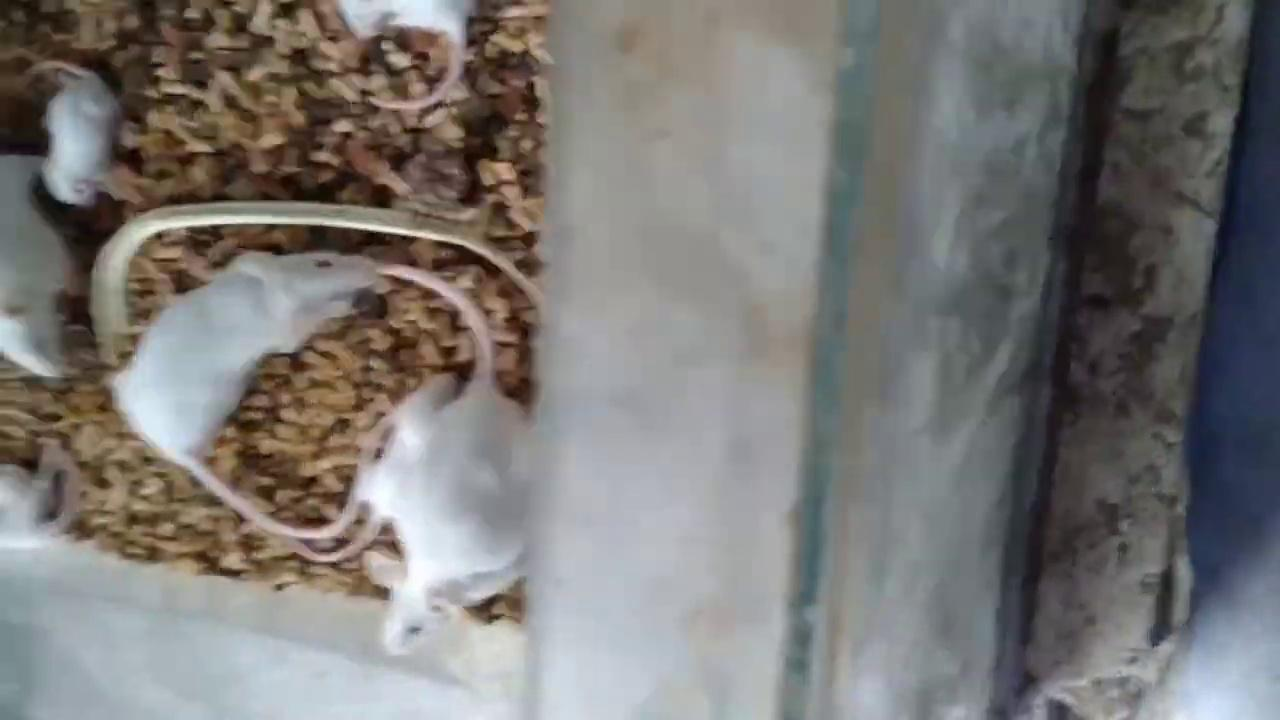rat: (120, 251, 376, 537), (374, 259, 536, 658), (0, 156, 74, 378)
